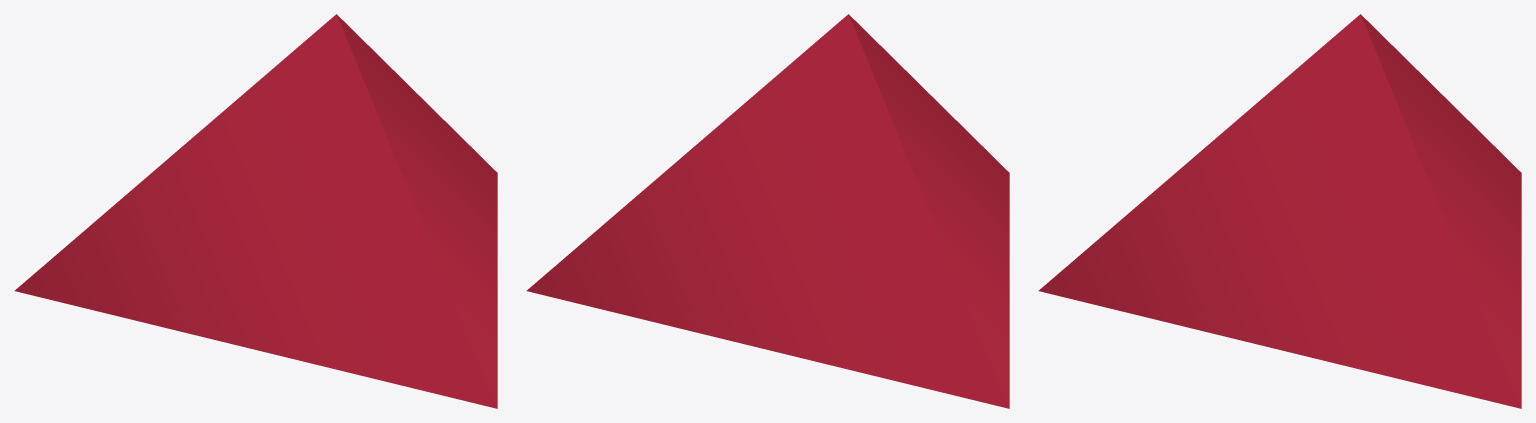
The picture shows the model from 3 angles, left to right: view 1: azimuth 30°, elevation 25°; view 2: azimuth 150°, elevation 25°; view 3: azimuth 270°, elevation 25°; orthographic projection.
Size of the model in its own units: 0.9182 by 0.5027 by 0.7952.
